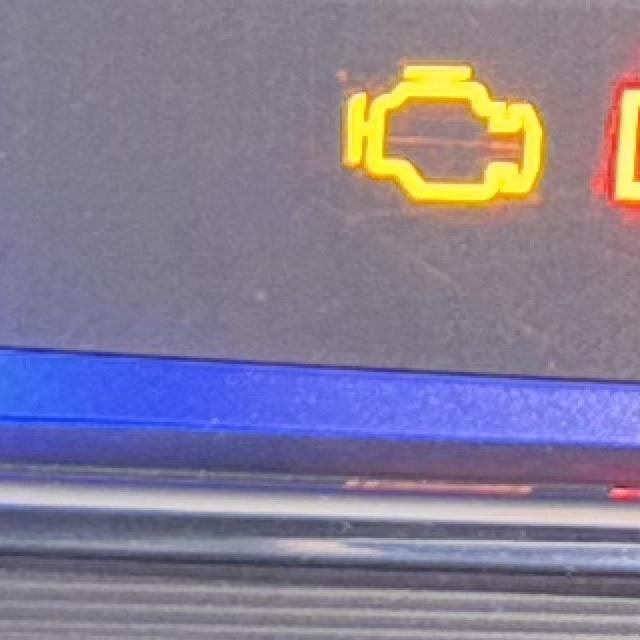Engine Issue: (340, 65, 547, 206)
